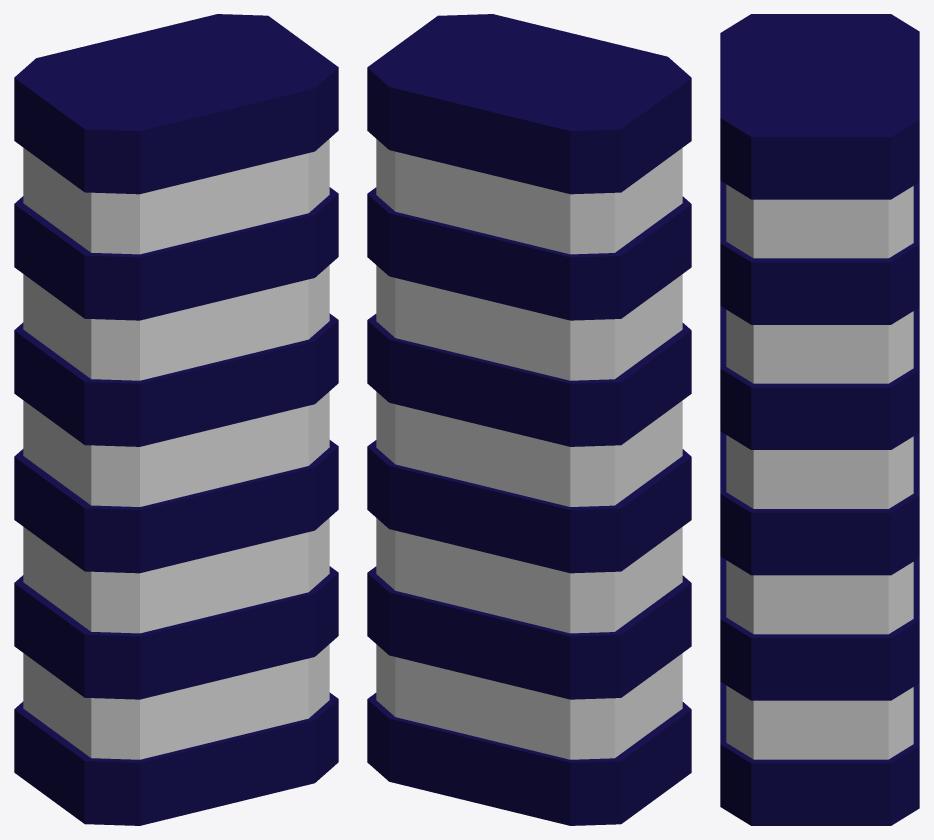
Rendered from Buliding3.fbx.
3 views of the same model, side by side, from view 1: azimuth 30°, elevation 25°; view 2: azimuth 150°, elevation 25°; view 3: azimuth 270°, elevation 25° (orthographic).
Visible parts, largest first — view 1: Cube.012; view 2: Cube.012; view 3: Cube.012.
Boxes of the visible parts, bbox=[...] form: Cube.012: bbox=[14, 14, 338, 825]; Cube.012: bbox=[367, 14, 691, 825]; Cube.012: bbox=[720, 14, 919, 825].
Bounding box in the file's own units: 3825 × 9995 × 2623.
